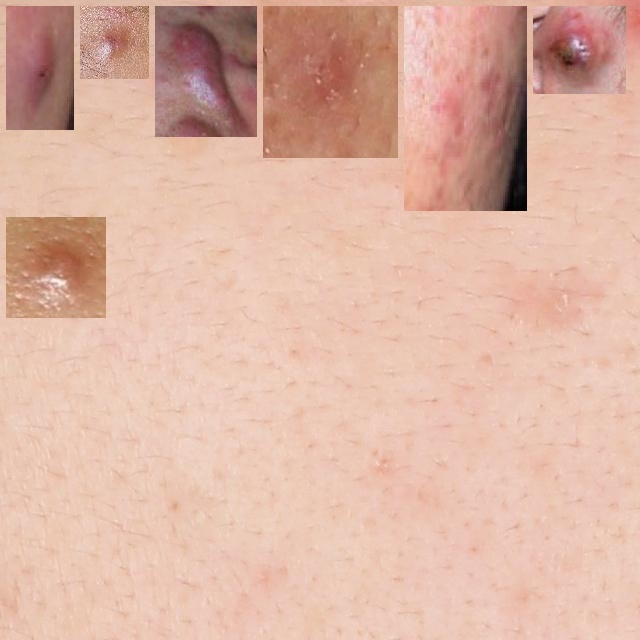nodule: (412, 14, 522, 203), (271, 14, 390, 150), (163, 14, 249, 129), (14, 225, 98, 310), (14, 14, 66, 122), (541, 14, 618, 86), (88, 14, 141, 71)
